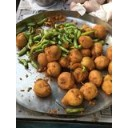bonda: (63, 89, 83, 107), (33, 79, 52, 97), (58, 72, 73, 90), (45, 61, 61, 77), (83, 82, 98, 99), (68, 47, 83, 63), (92, 54, 109, 68), (45, 45, 61, 59), (88, 70, 102, 85), (102, 75, 112, 95), (82, 55, 95, 70), (75, 66, 87, 82), (16, 33, 27, 49), (79, 35, 93, 47)
